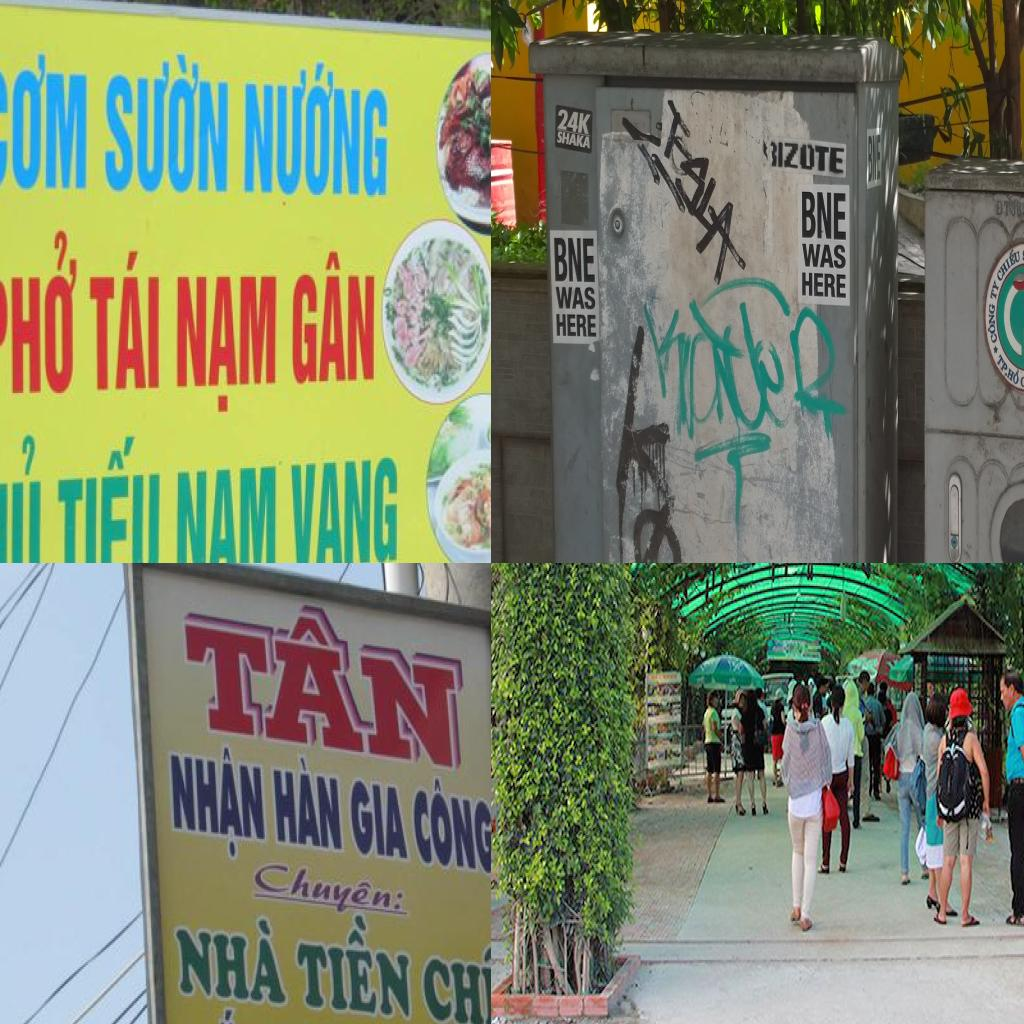text: (164, 581, 477, 778), (240, 60, 396, 200), (102, 57, 233, 197), (172, 273, 282, 417), (49, 427, 161, 563), (0, 229, 81, 403), (161, 736, 273, 860), (172, 898, 296, 1010), (293, 912, 414, 1024), (285, 452, 401, 563), (0, 51, 89, 193), (84, 241, 164, 397), (612, 313, 675, 505), (290, 246, 376, 386), (173, 463, 279, 563), (687, 428, 773, 550), (780, 305, 850, 437), (250, 861, 417, 916), (410, 774, 491, 878), (270, 756, 348, 860), (420, 922, 491, 1024), (349, 767, 417, 868), (0, 434, 43, 563), (777, 139, 846, 174), (799, 190, 847, 240), (551, 236, 596, 281), (192, 1004, 266, 1024), (798, 241, 848, 267), (801, 270, 850, 296), (994, 245, 1022, 285), (555, 314, 598, 338), (554, 130, 594, 155), (556, 106, 593, 132), (555, 287, 595, 310), (867, 132, 884, 184), (987, 300, 1000, 346), (993, 350, 1010, 380), (1007, 366, 1023, 387), (1011, 198, 1024, 223), (989, 274, 999, 305), (995, 201, 1012, 218), (1019, 368, 1024, 388)
